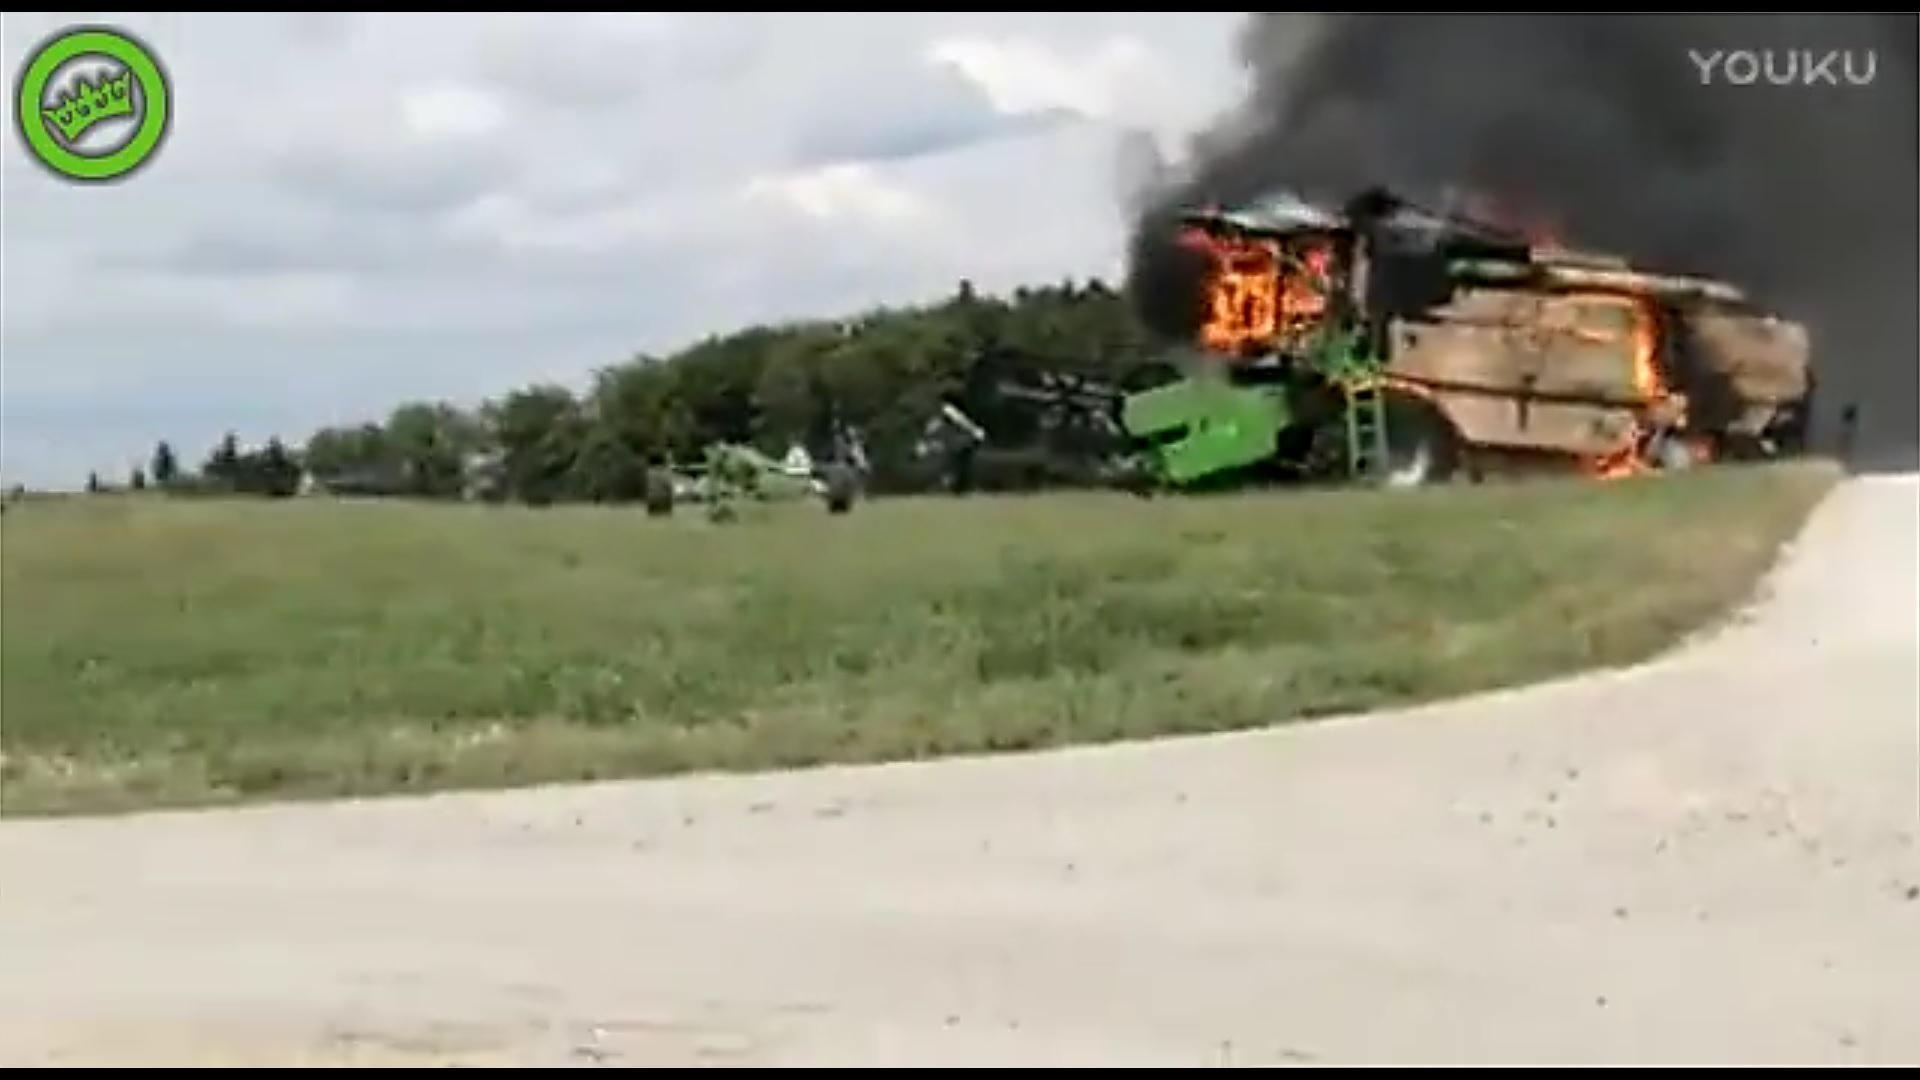fire: (1191, 231, 1336, 345), (1622, 307, 1672, 397)
